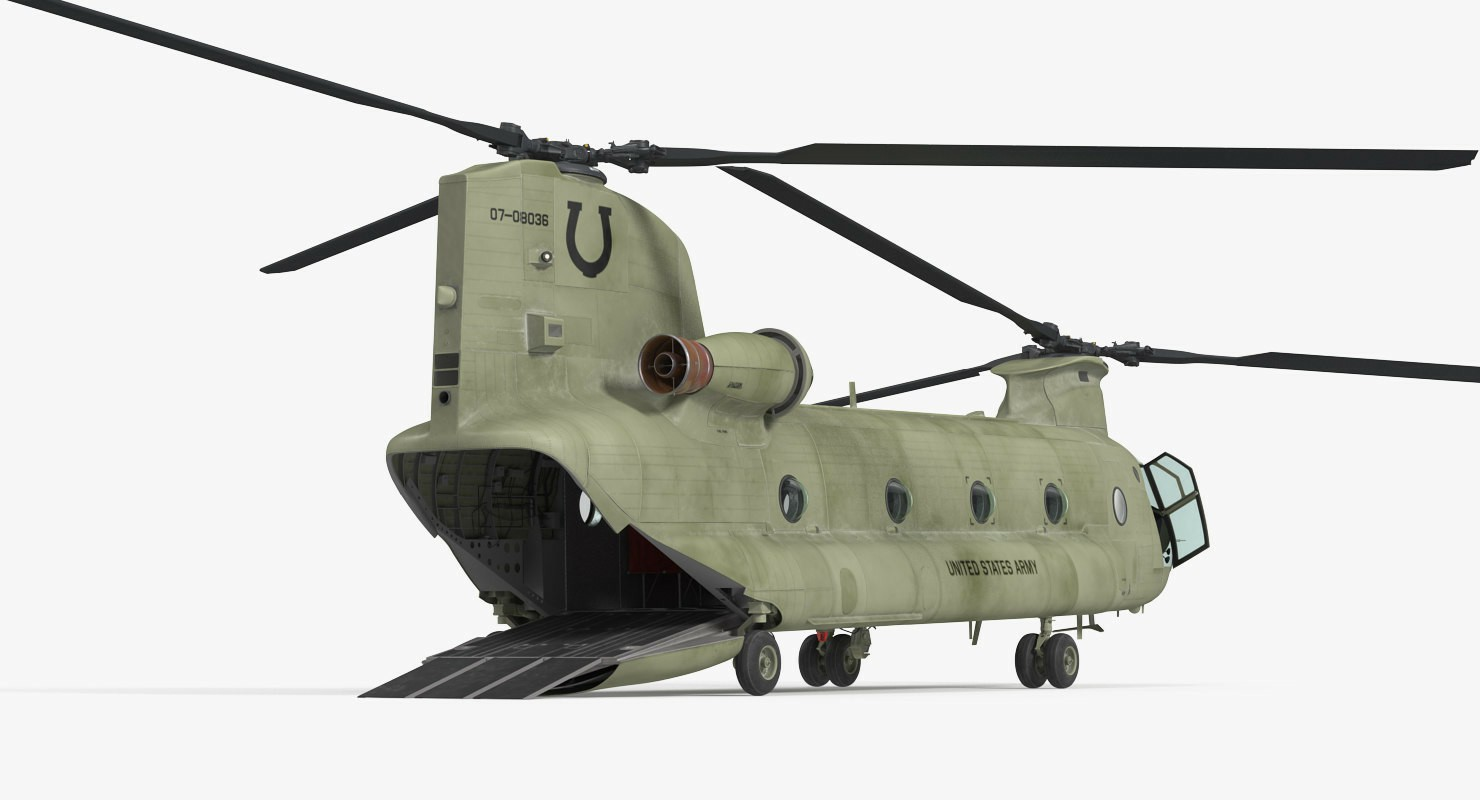chinook: (120, 8, 1450, 714)
